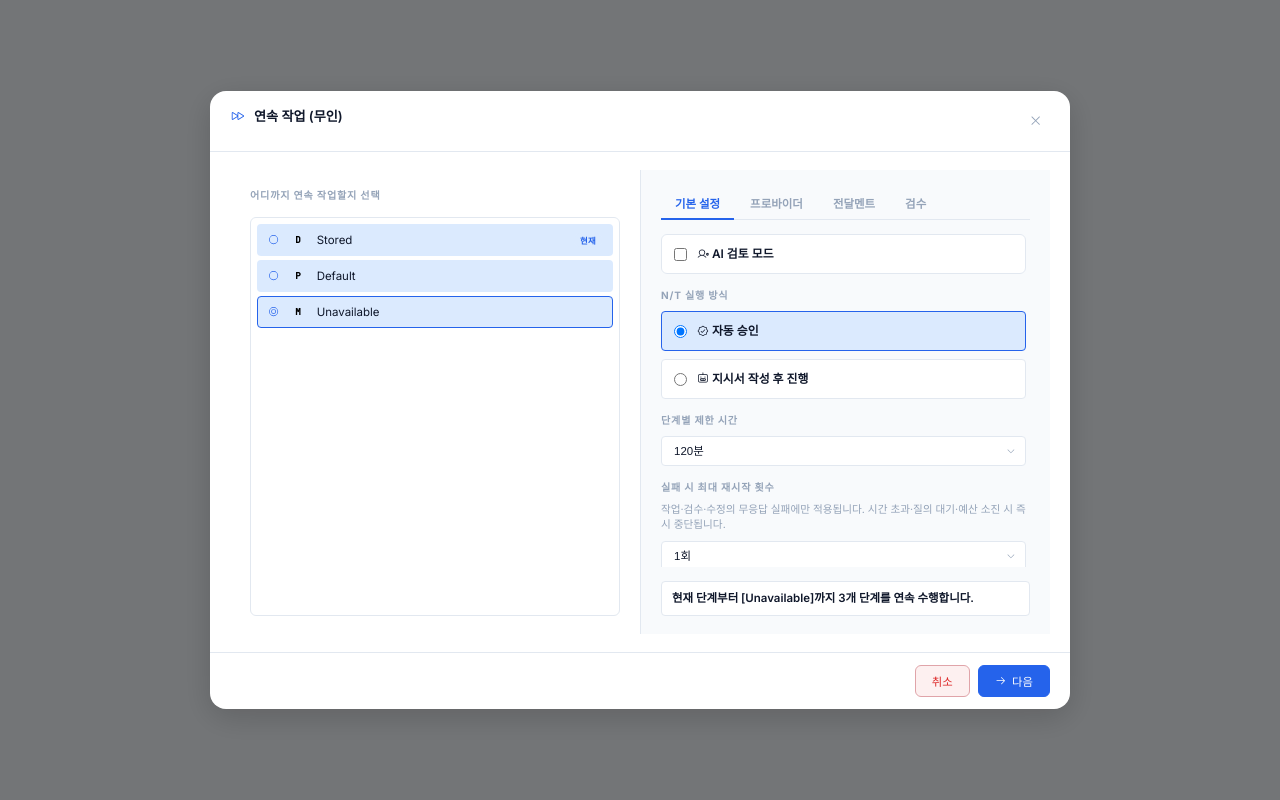
ContinuousWorkDialog stored provider states (0408) › leaves no run-summary or pin copy in the Korean provider tab
Click the button with class "cwd-tab" showing "프로바이더" at (776, 204), box x1=736 y1=188 x2=817 y2=220
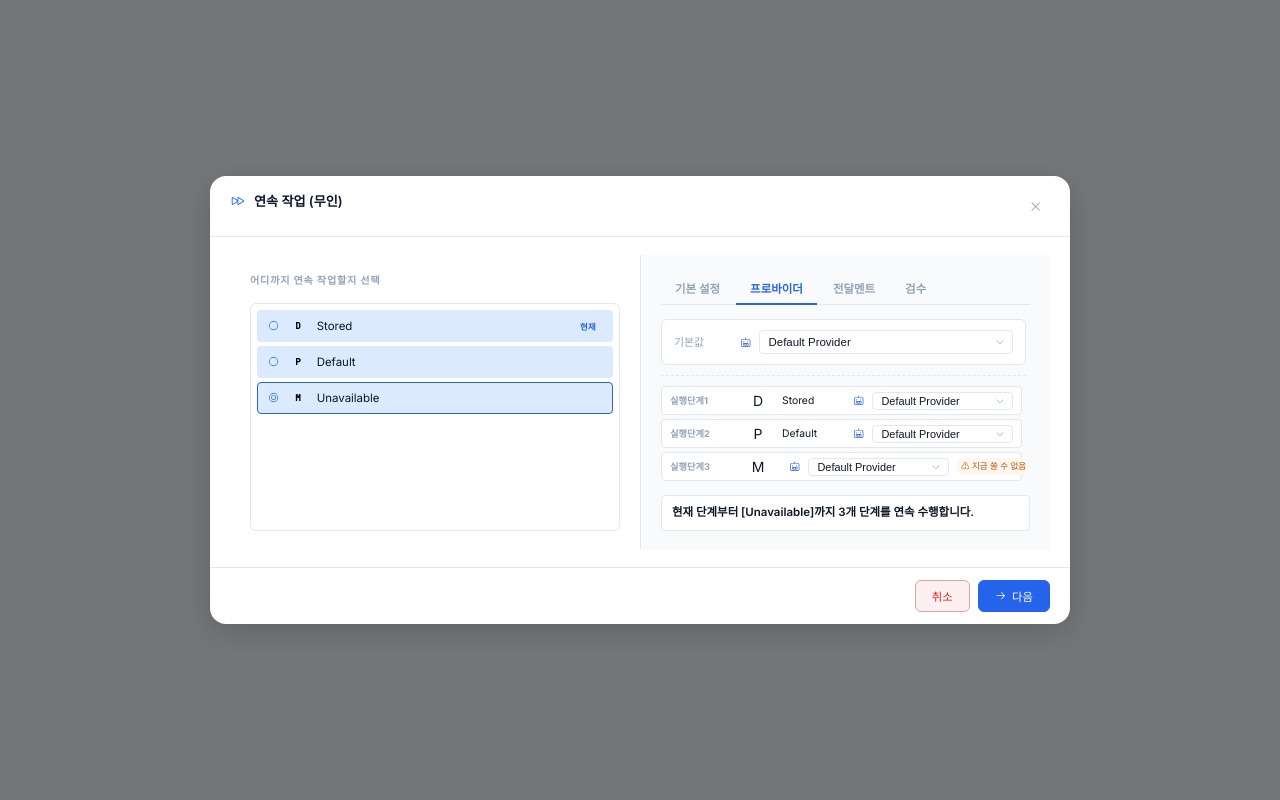
Result: the element with class "cwd-provider-block" is shown at x1=661 y1=319 x2=1026 y2=481
Result: the label with class "cwd-provider-select" is shown at x1=740 y1=330 x2=1013 y2=354
